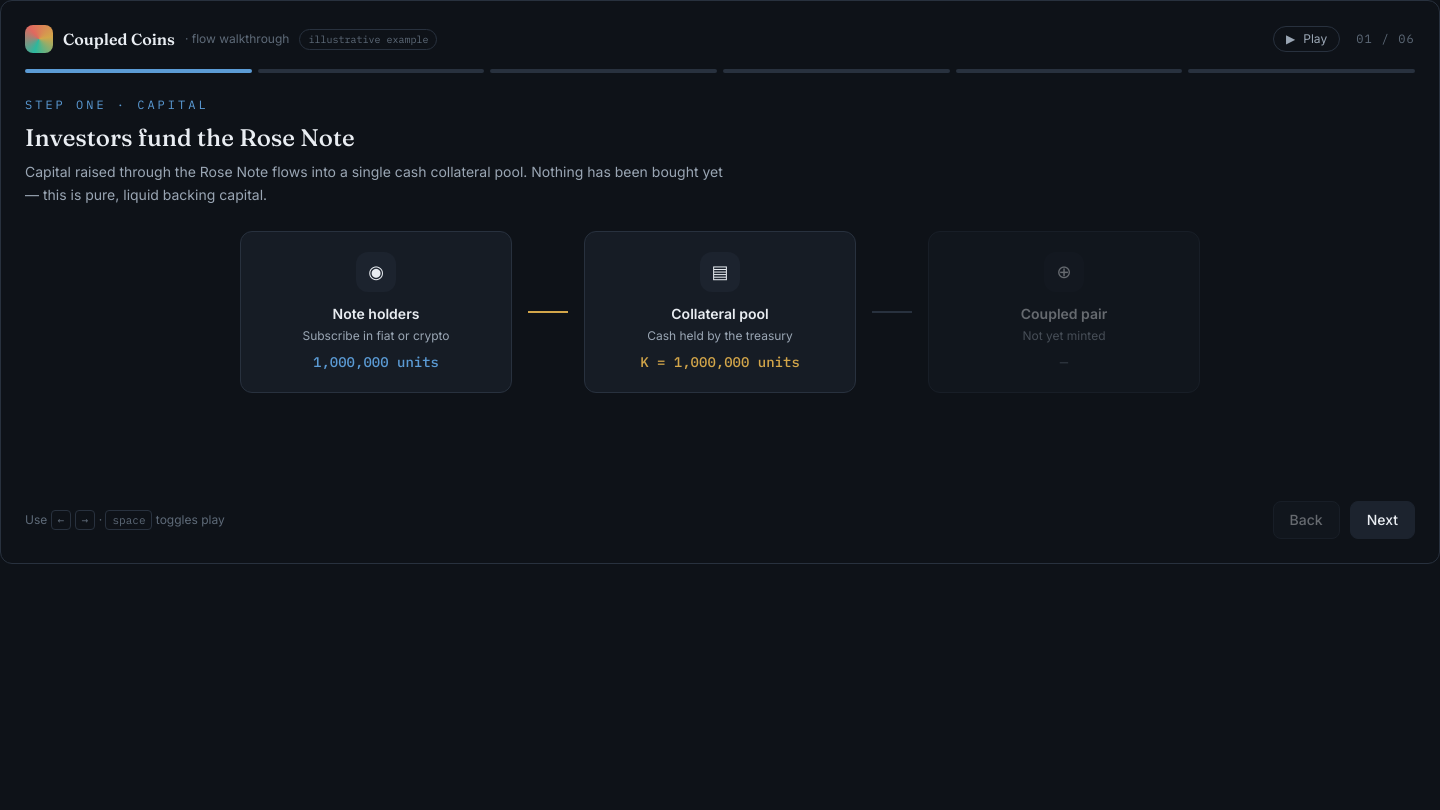
Scenario: CoupledCoinsWalkthrough › advances scenes with Next and via the rail tabs
Click the button "Next": (1382, 520) x1=1350 y1=501 x2=1415 y2=539
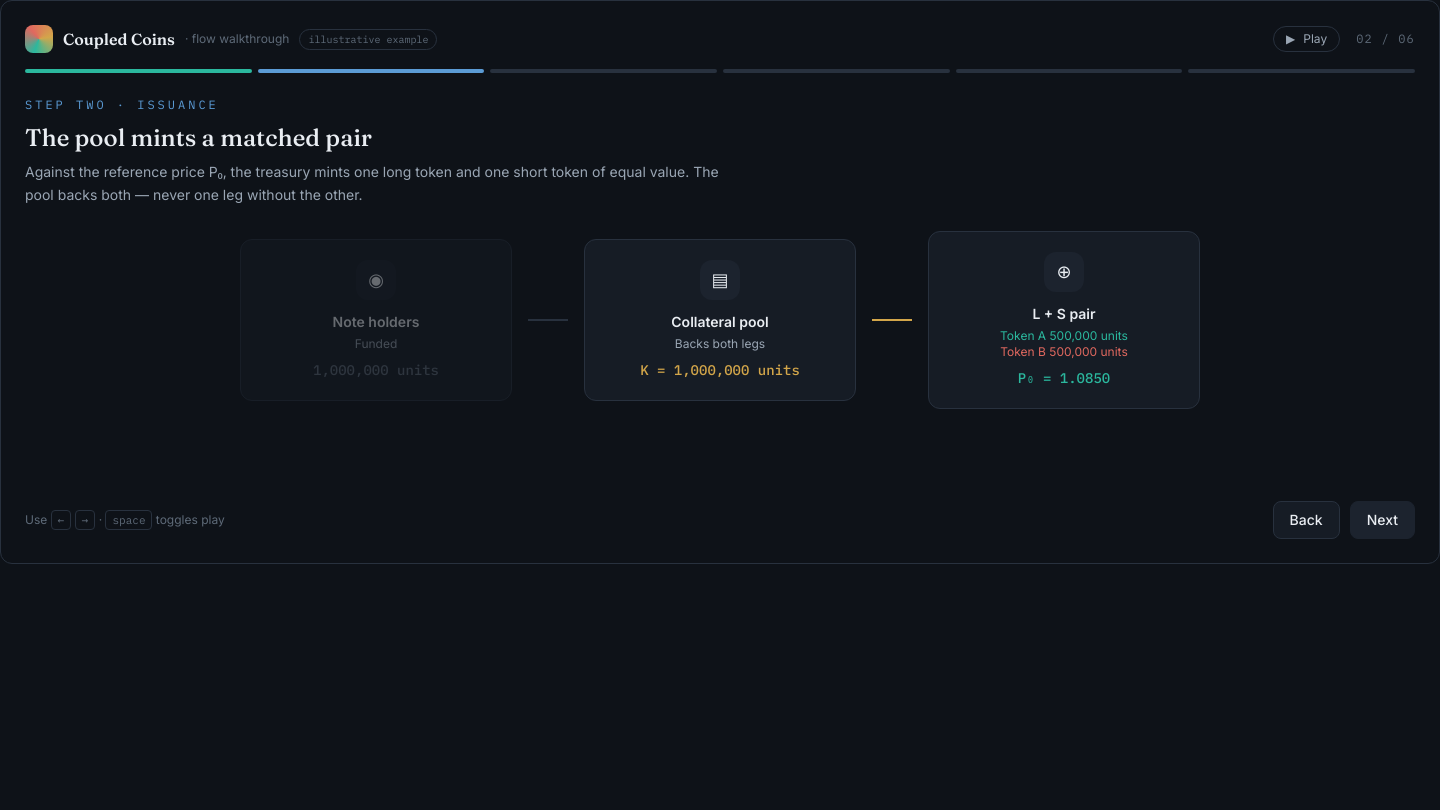
expect the text "02 / 06" is shown: met, box x1=1356 y1=31 x2=1415 y2=47
expect the heading "The pool mints a matched pair" is shown: met, box x1=25 y1=123 x2=372 y2=152
// Jump straight to the mark-to-market scene via its rail tab.
Click the button named "Scene 4:": (836, 71) x1=723 y1=69 x2=950 y2=73
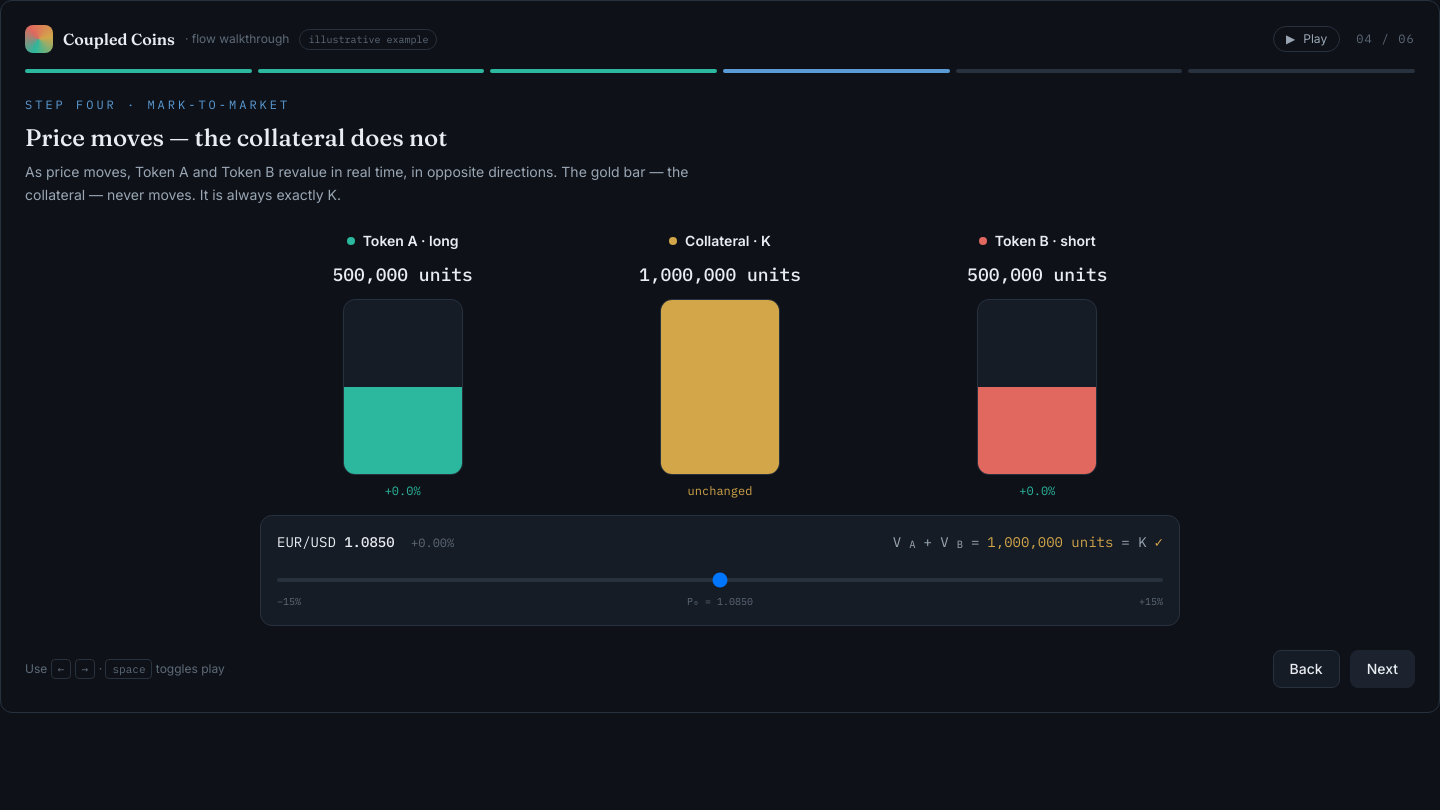
expect the text "04 / 06" is shown: met, box x1=1356 y1=31 x2=1415 y2=47
